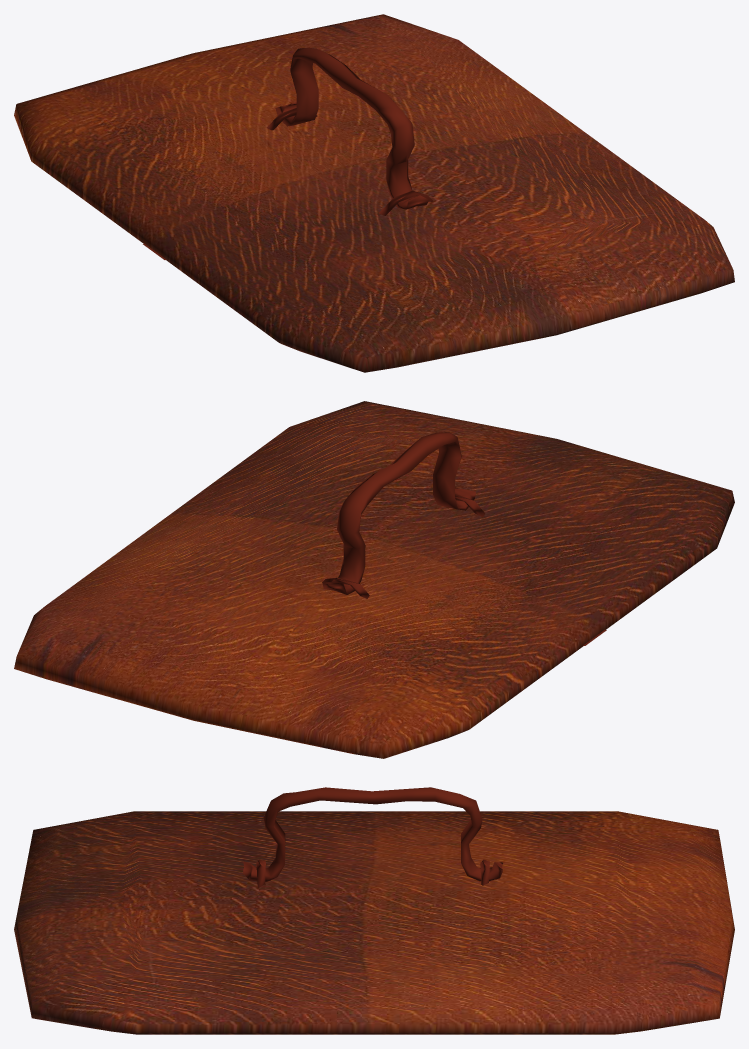
Rendered from krishkashkatulki.fbx.
3 views of the same model, one above another, from view 1: azimuth 30°, elevation 25°; view 2: azimuth 150°, elevation 25°; view 3: azimuth 270°, elevation 25° (orthographic).
Parts seen in each view (by area): view 1: casket_top; view 2: casket_top; view 3: casket_top.
Boxes of the visible parts, bbox=[...] form: casket_top: bbox=[14, 14, 734, 372]; casket_top: bbox=[14, 401, 734, 758]; casket_top: bbox=[14, 787, 734, 1034].
Bounding box in the file's own units: 8.26 × 2.44 × 11.99.
